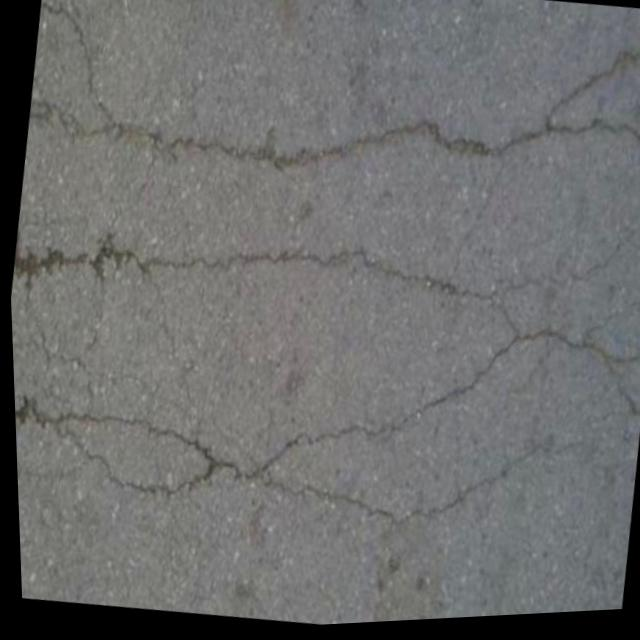Crack: (8, 257, 640, 586), (19, 0, 640, 246), (6, 182, 640, 391)
